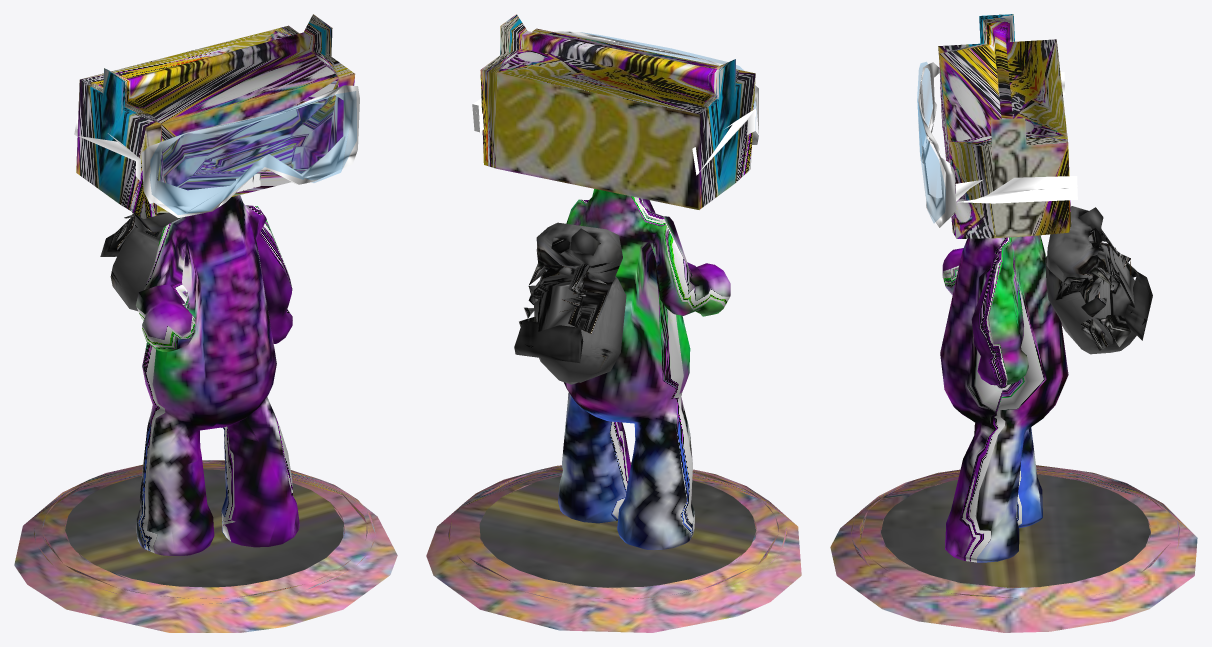
3 views of the same model, side by side, from view 1: azimuth 30°, elevation 25°; view 2: azimuth 150°, elevation 25°; view 3: azimuth 270°, elevation 25° (orthographic). The views are drawn at different scales.
Size of the model in its own units: 1.44 by 2.11 by 1.43.
9 materials, 5 textured.
